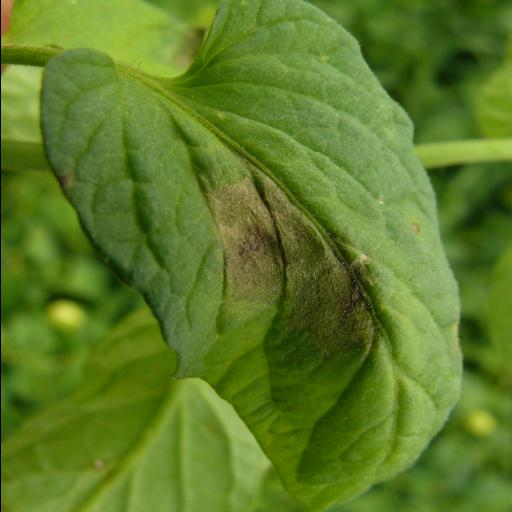Late Blight: (34, 2, 468, 506)
